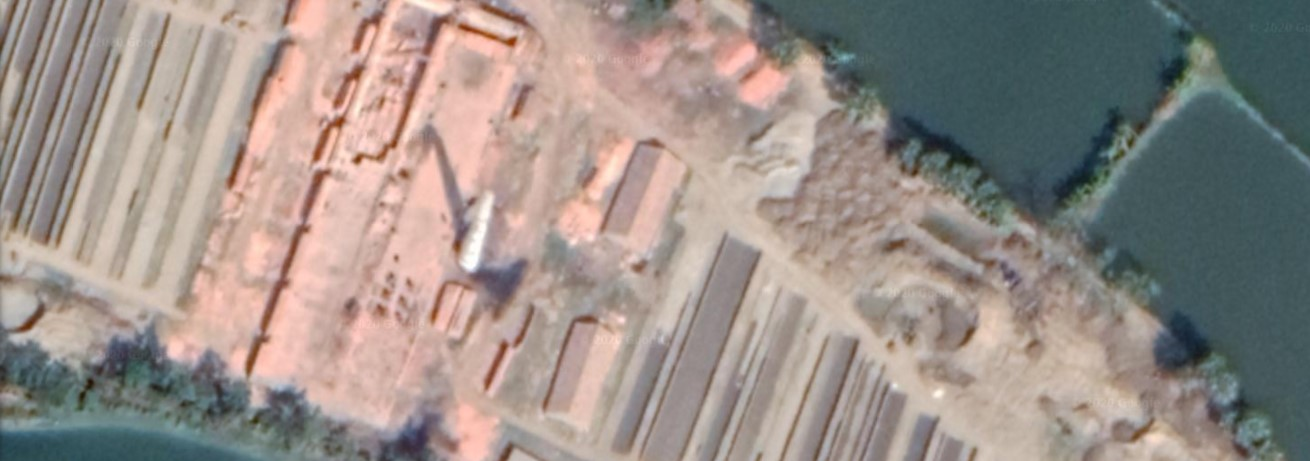kiln: (337, 41, 576, 360)
